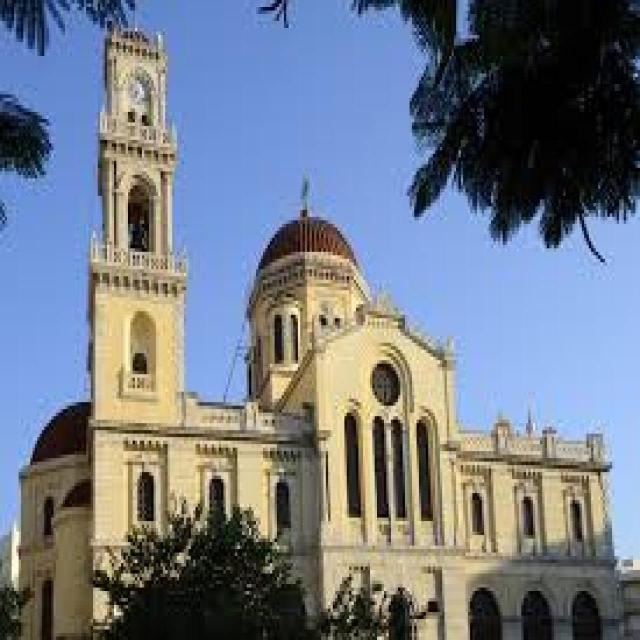Agios Minas: (17, 25, 618, 640)
